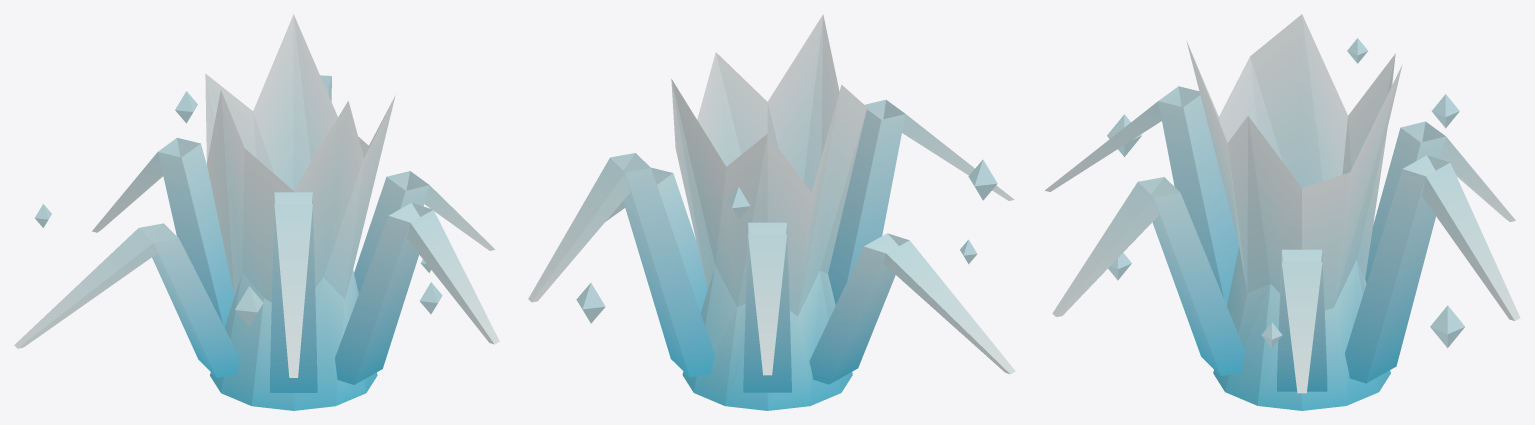
The model's file is SprayBuoyEntryBody.glb.
3 views of the same model, side by side, from view 1: azimuth 30°, elevation 25°; view 2: azimuth 150°, elevation 25°; view 3: azimuth 270°, elevation 25° (orthographic). The views are drawn at different scales.
Parts seen in each view (by area): view 1: SprayBuoyEntryBody; view 2: SprayBuoyEntryBody; view 3: SprayBuoyEntryBody.
Part boxes in pixels (<box>): SprayBuoyEntryBody: <box>14,14,499,410</box>; SprayBuoyEntryBody: <box>528,14,1015,410</box>; SprayBuoyEntryBody: <box>1045,14,1520,410</box>.
Size of the model in its own units: 2.49 by 1.63 by 2.11.
